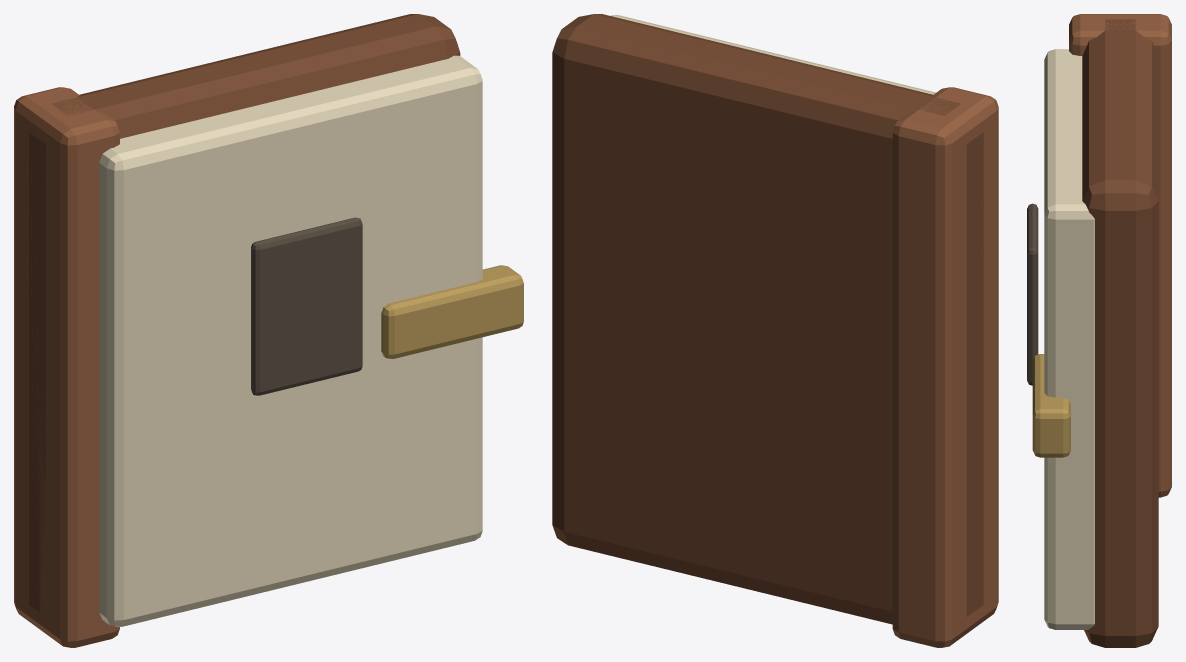
File: item_sorrel_field_ledger.glb
The picture shows the model from 3 angles, left to right: view 1: azimuth 30°, elevation 25°; view 2: azimuth 150°, elevation 25°; view 3: azimuth 270°, elevation 25°; orthographic projection. The views are drawn at different scales.
Visible parts, largest first — view 1: Ledger pages, Ledger spine, Ledger cover, Ledger mark, Ledger clasp; view 2: Ledger cover, Ledger spine, Ledger pages; view 3: Ledger cover, Ledger pages, Ledger spine, Ledger clasp, Ledger mark.
Part boxes in pixels (x1,y1,x2,y2): Ledger pages: (99,55,482,626); Ledger spine: (14,87,119,647); Ledger cover: (29,14,460,613); Ledger mark: (251,217,362,395); Ledger clasp: (381,265,523,358); Ledger cover: (552,14,983,624); Ledger spine: (892,87,998,647); Ledger pages: (610,15,935,94); Ledger cover: (1082,19,1158,647); Ledger pages: (1044,49,1094,629); Ledger spine: (1069,14,1171,497); Ledger clasp: (1032,354,1070,457); Ledger mark: (1027,203,1038,385).
Size of the model in its own units: 0.12 by 0.135 by 0.038.
